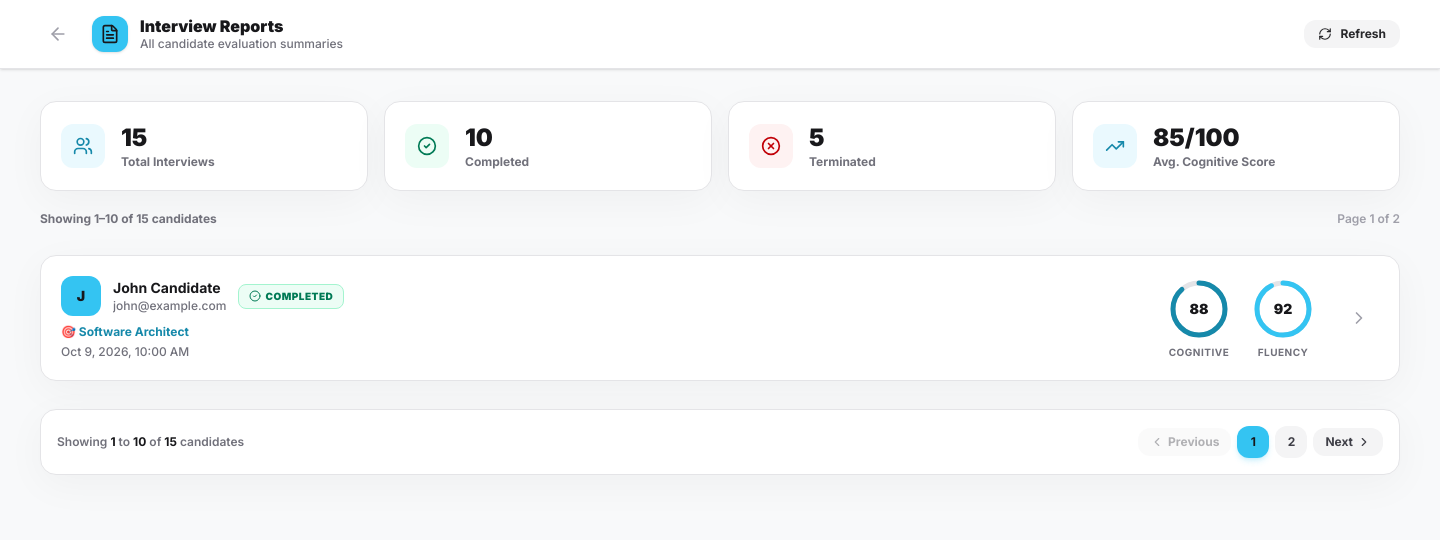
Test case: InterviewReportsPage › renders report summaries and pagination controls when multiple pages exist
This screenshot has width=1440, height=540.
Expected: the text "John Candidate" is shown, [113,278,226,298]
Expected: the text "🎯 Software Architect" is shown, [61,324,189,339]
Note: Click Next button to navigate to page 2
Click the button "Next".
click(1348, 442)  # box [1313,428,1383,456]
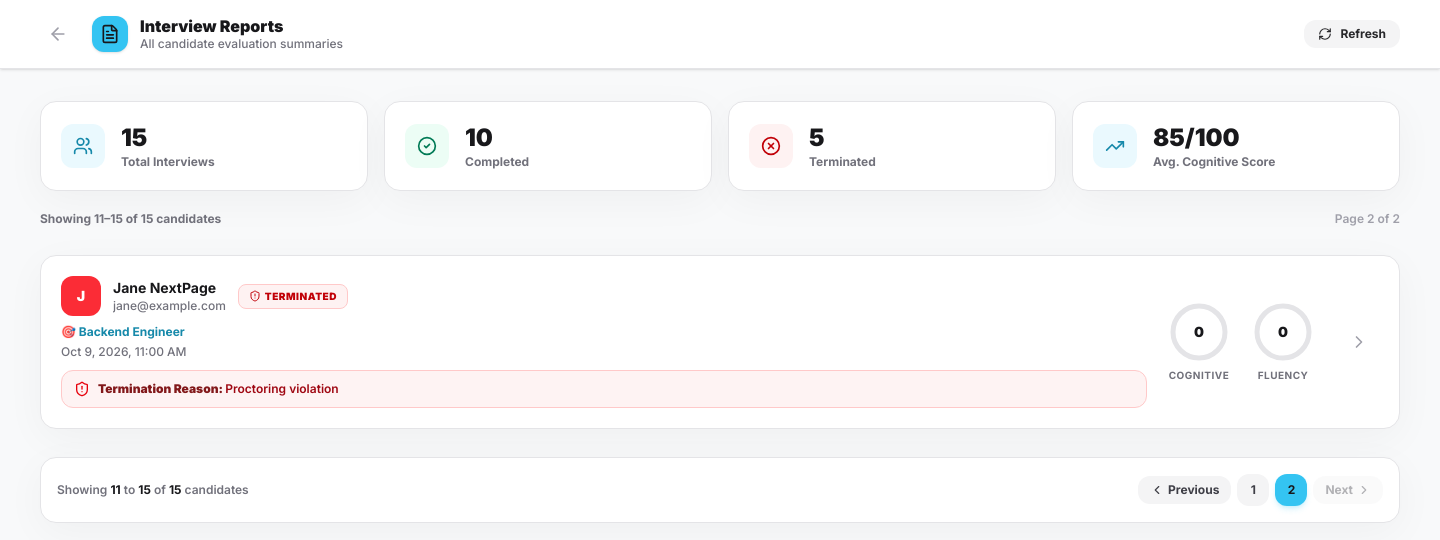
Expected: the text "Jane NextPage" is shown, [113,278,226,298]
